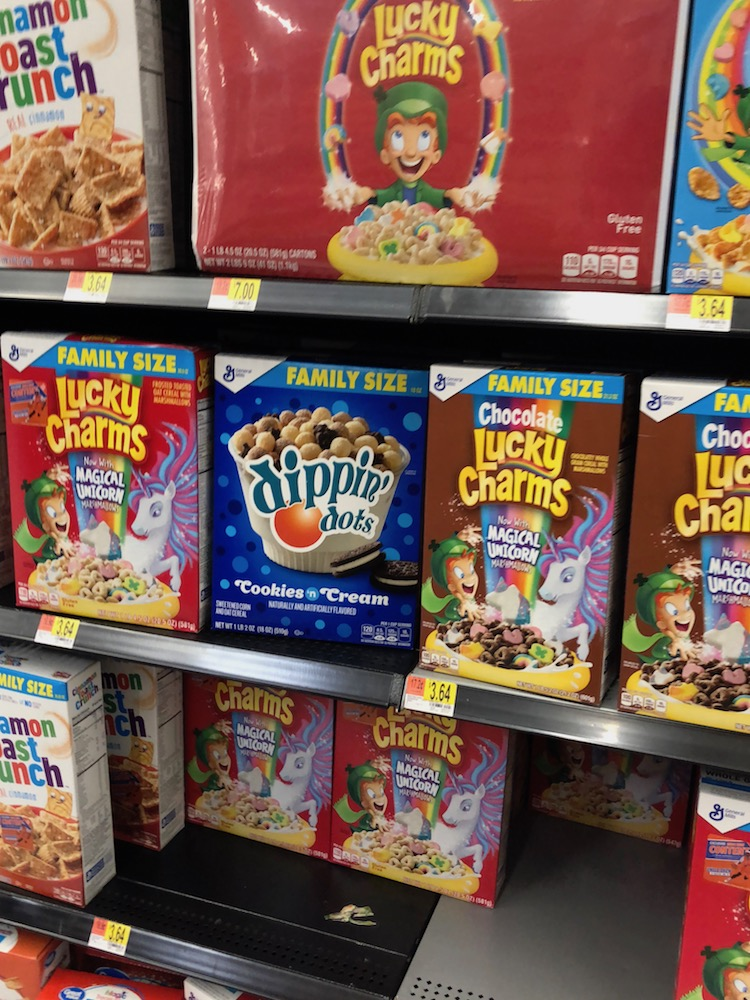Dippin Dots Cookies & Cream -568929378: (205, 367, 417, 643)
